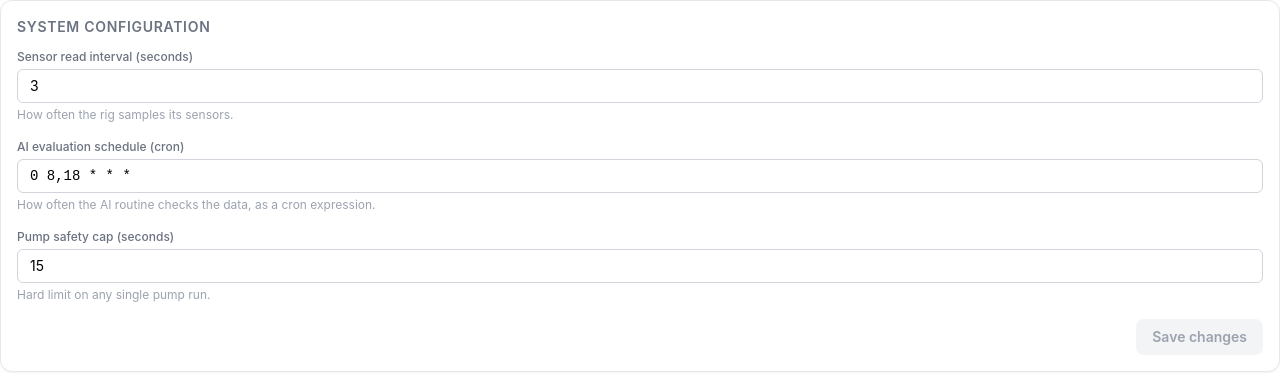
Test case: SystemConfigPanel › Save is disabled until a field changes, then PUTs the update
expect the field showing "0 8,18 * * *" is shown: met, box x1=17 y1=159 x2=1263 y2=193
expect the button "Save changes" is disabled: met, box x1=1136 y1=319 x2=1263 y2=355
Change the sensor interval
Replace the text in the number field showing "3" with "10" at coordinates (640, 86), box x1=17 y1=69 x2=1263 y2=103
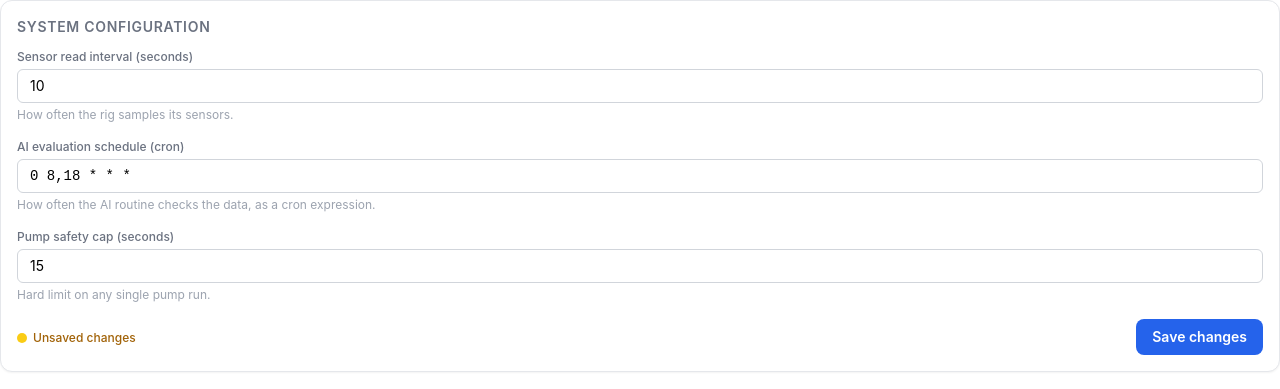
expect the text "Unsaved changes" is shown: met, box x1=33 y1=330 x2=136 y2=346
expect the button "Save changes" is enabled: met
Click the button "Save changes" at coordinates (1200, 337), box x1=1136 y1=319 x2=1263 y2=355
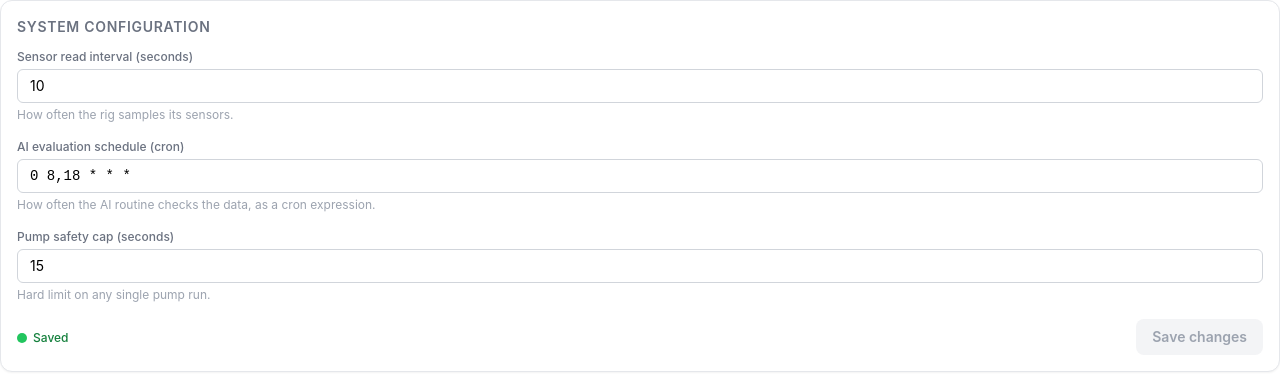
expect the text "Saved" is shown: met, box x1=33 y1=330 x2=68 y2=346
